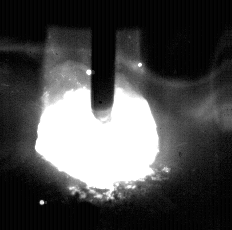arame: (92, 0, 116, 124)
poca: (36, 0, 160, 230)
